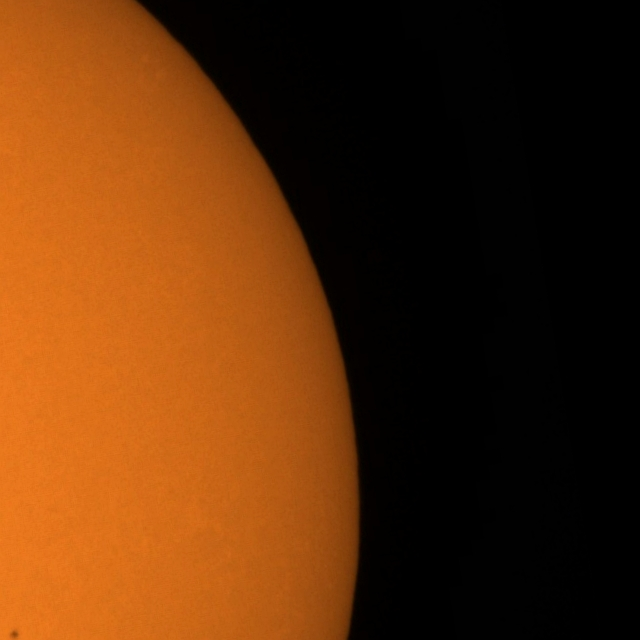sunspot: (8, 628, 21, 640)
